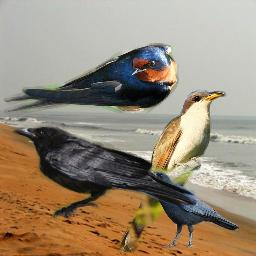Crow: (12, 125, 199, 220), (146, 170, 239, 249)
Cuckoo: (116, 87, 228, 256)
Swallow: (4, 43, 179, 113)
